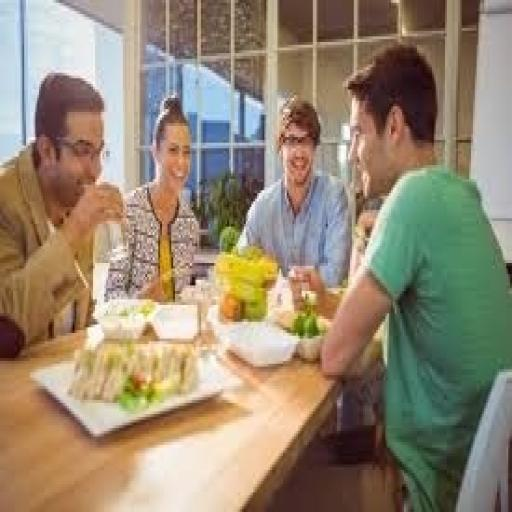eating: (318, 42, 510, 509), (0, 67, 127, 353)
